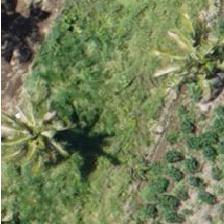coconut_tree: (0, 88, 77, 178), (167, 13, 223, 103)
